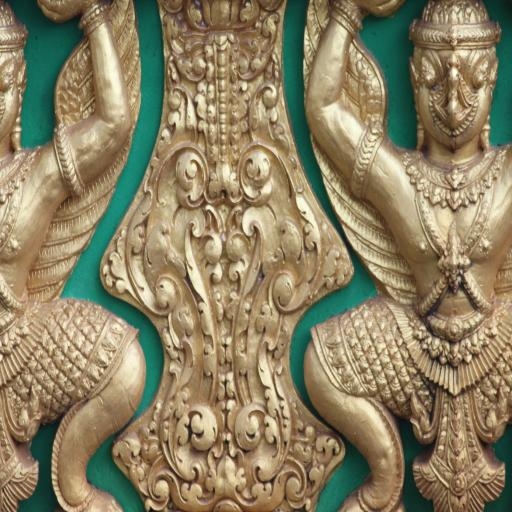la: (130, 0, 326, 512)
than: (310, 0, 512, 512), (0, 1, 146, 512)
